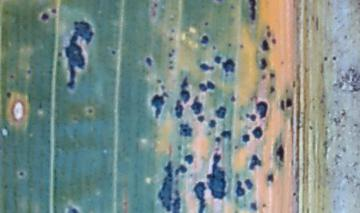tarspot: (65, 20, 93, 88), (207, 153, 228, 198), (158, 161, 173, 213), (194, 181, 207, 213), (151, 95, 165, 118), (190, 93, 202, 114), (178, 121, 193, 137), (220, 58, 235, 73), (248, 154, 262, 170), (274, 143, 285, 162), (255, 101, 268, 117), (248, 1, 257, 21), (173, 190, 181, 212), (175, 100, 183, 119), (215, 107, 227, 119), (237, 180, 246, 196), (252, 126, 263, 139), (174, 165, 187, 175), (183, 154, 194, 165), (199, 63, 214, 71), (260, 39, 269, 52), (180, 75, 189, 88), (200, 33, 209, 45), (180, 90, 189, 102), (259, 57, 267, 70), (197, 82, 208, 91), (245, 179, 254, 190), (66, 206, 80, 213), (221, 129, 231, 138), (249, 201, 258, 210), (241, 134, 250, 143), (207, 80, 215, 90), (286, 98, 294, 107), (267, 174, 275, 183), (215, 55, 222, 65), (144, 58, 152, 66), (214, 135, 222, 143), (176, 143, 183, 152), (280, 99, 285, 111), (41, 13, 49, 20), (161, 91, 169, 98), (197, 116, 205, 123), (250, 113, 256, 122), (269, 86, 276, 93), (49, 7, 57, 13), (266, 30, 272, 38), (57, 50, 63, 57), (5, 91, 12, 97), (18, 170, 24, 177), (226, 41, 232, 48), (209, 121, 216, 127), (230, 96, 236, 103), (331, 55, 337, 62), (206, 131, 213, 137), (111, 49, 116, 57), (230, 3, 235, 11), (308, 123, 313, 131), (88, 107, 94, 113), (152, 2, 158, 8), (167, 52, 173, 58), (156, 78, 162, 84), (238, 43, 244, 49), (291, 191, 297, 197), (292, 80, 296, 89), (8, 74, 15, 79), (269, 73, 276, 78), (26, 69, 32, 74), (204, 22, 209, 28), (168, 36, 174, 41), (170, 48, 176, 53), (272, 38, 277, 44), (261, 75, 267, 80), (245, 113, 250, 119), (167, 66, 174, 70), (171, 28, 176, 33), (266, 25, 271, 30), (323, 56, 328, 61), (262, 203, 267, 208), (169, 58, 173, 64), (216, 1, 224, 4), (234, 144, 238, 150), (161, 86, 165, 90), (213, 46, 217, 50)
